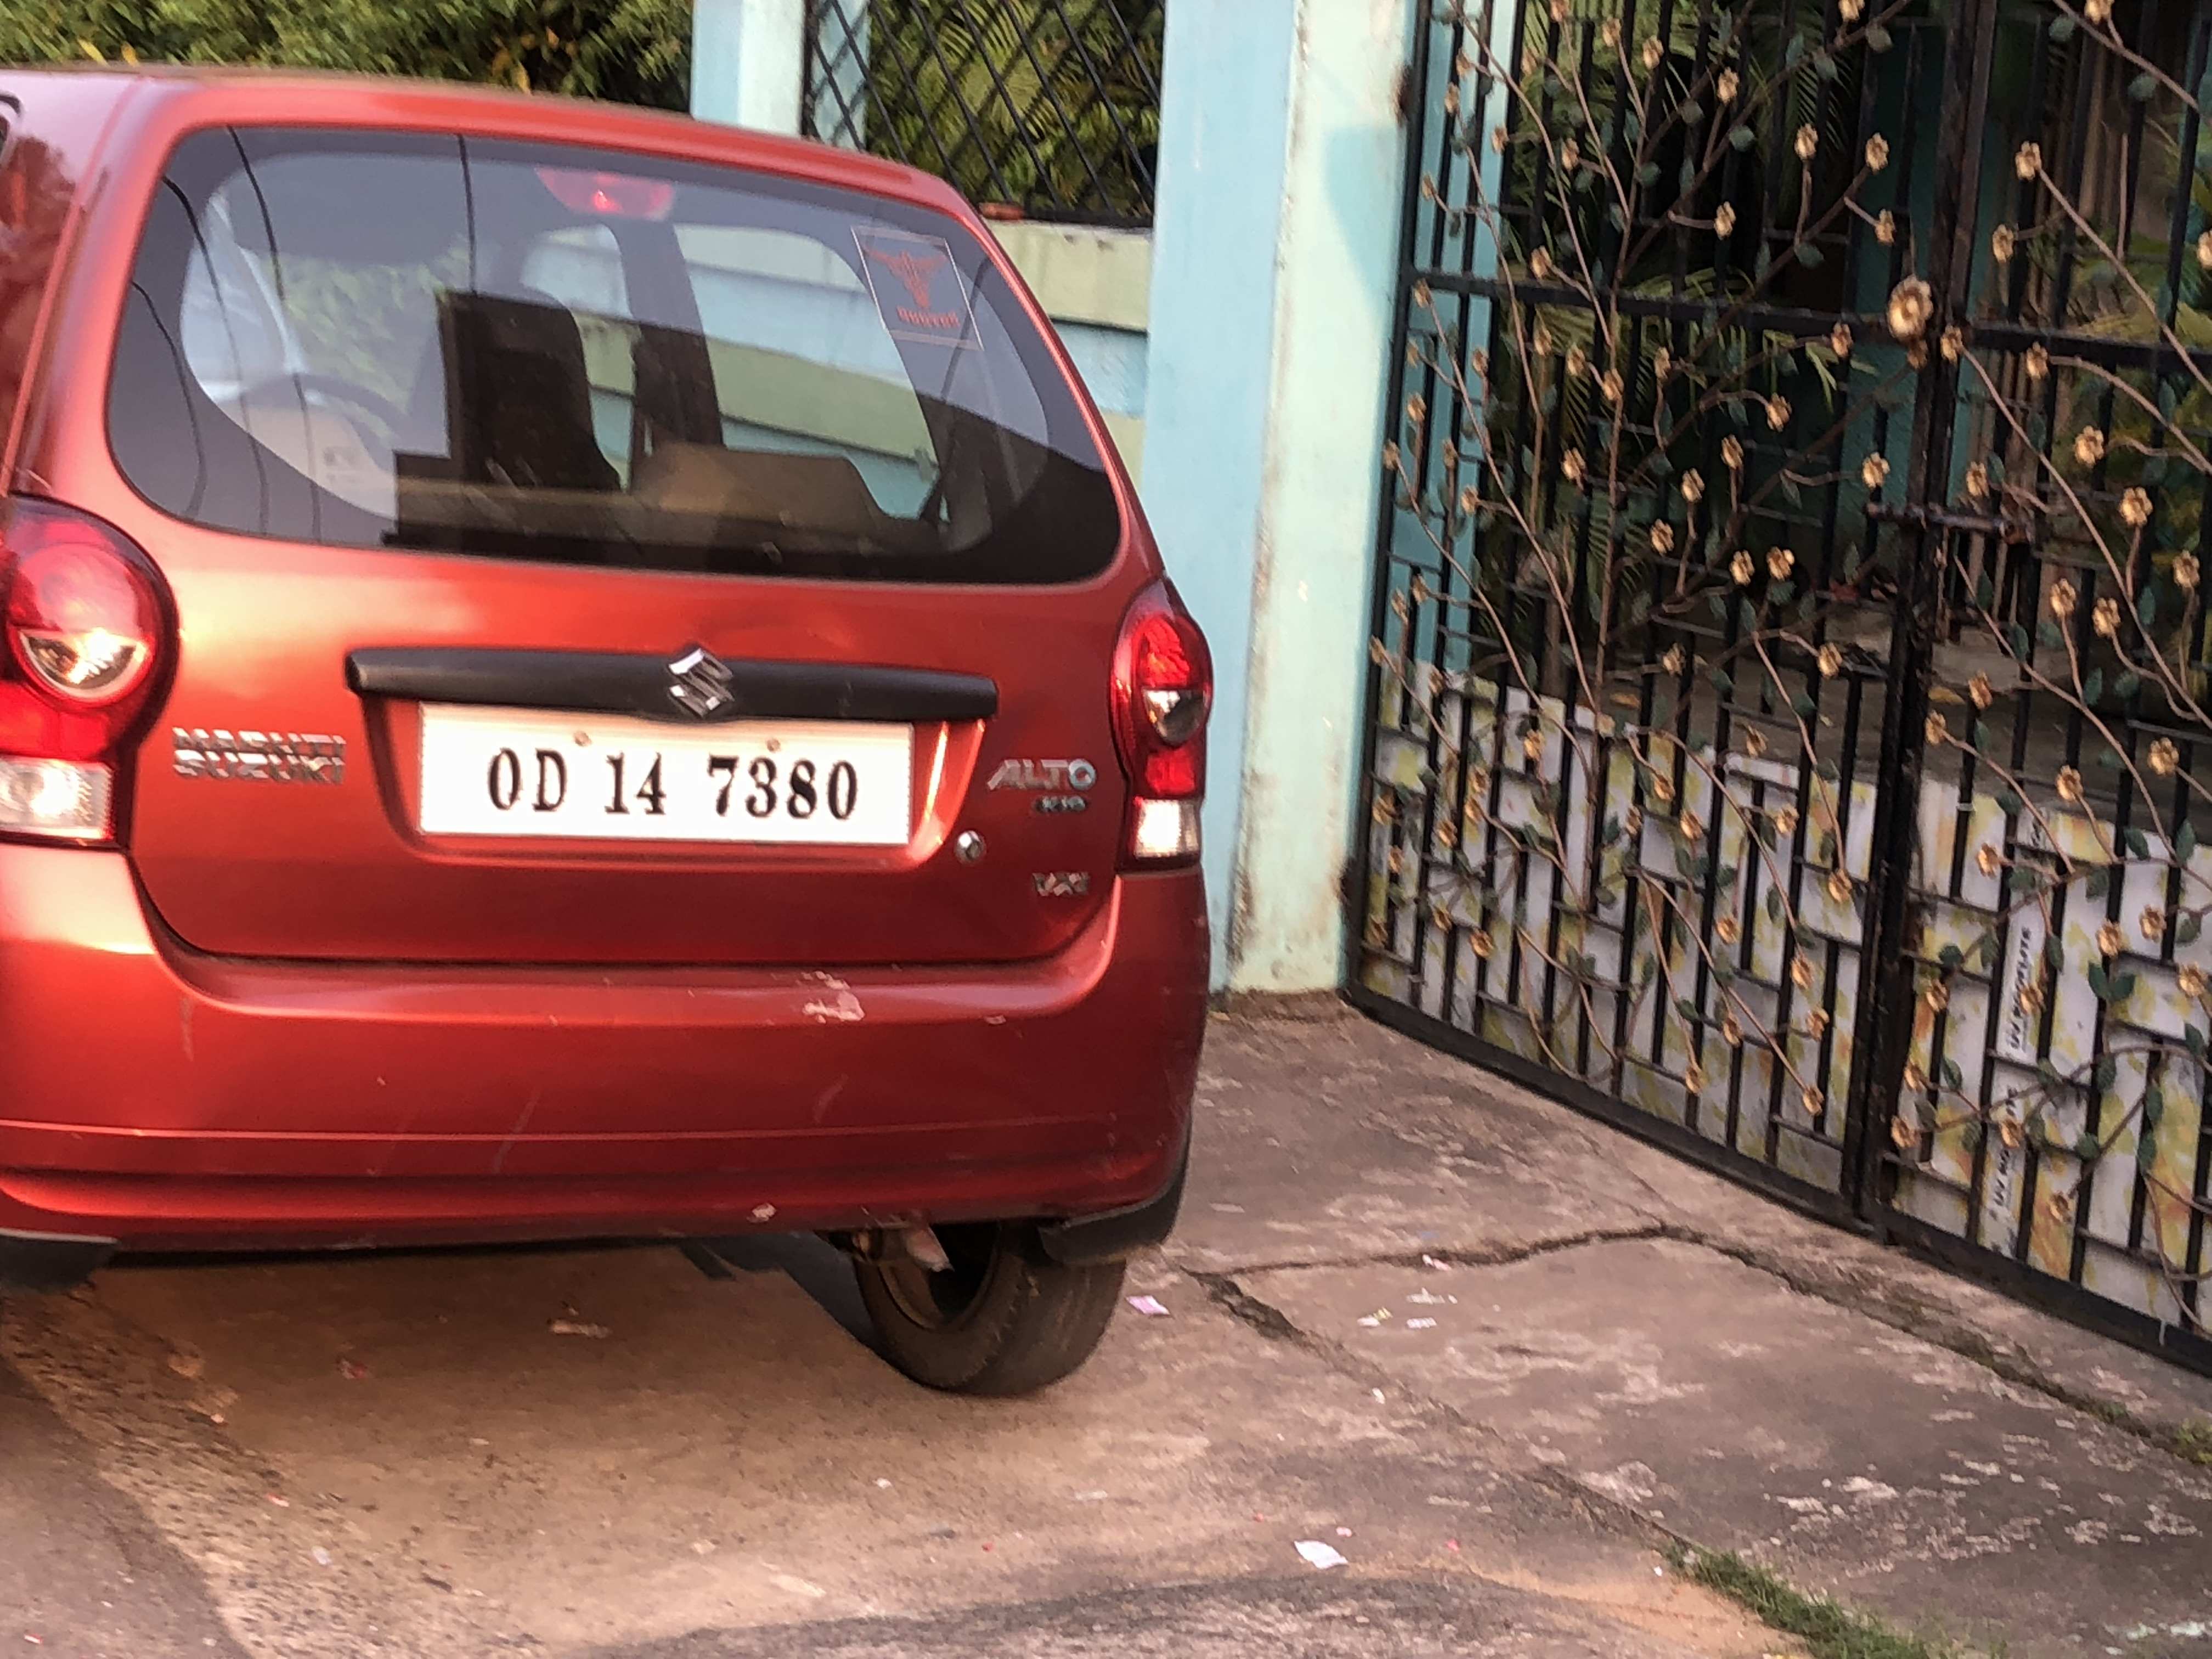licenseplate: (407, 688, 913, 863)
